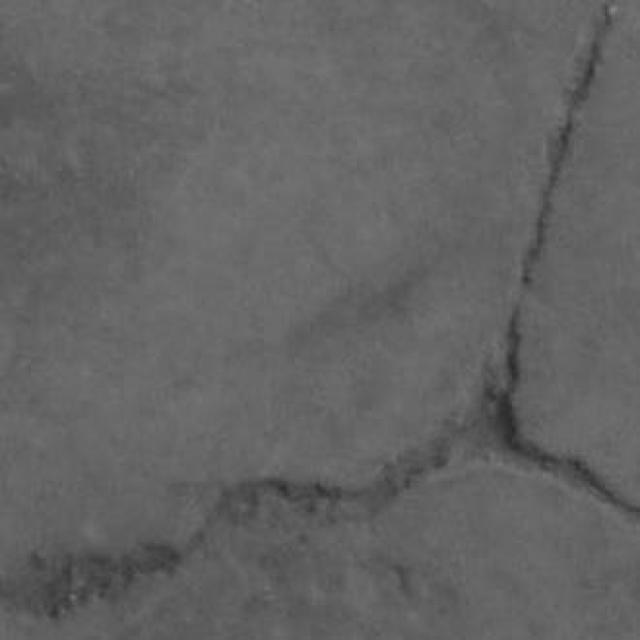crack: (481, 4, 639, 515), (483, 4, 639, 517), (522, 2, 616, 287), (0, 544, 182, 620)
